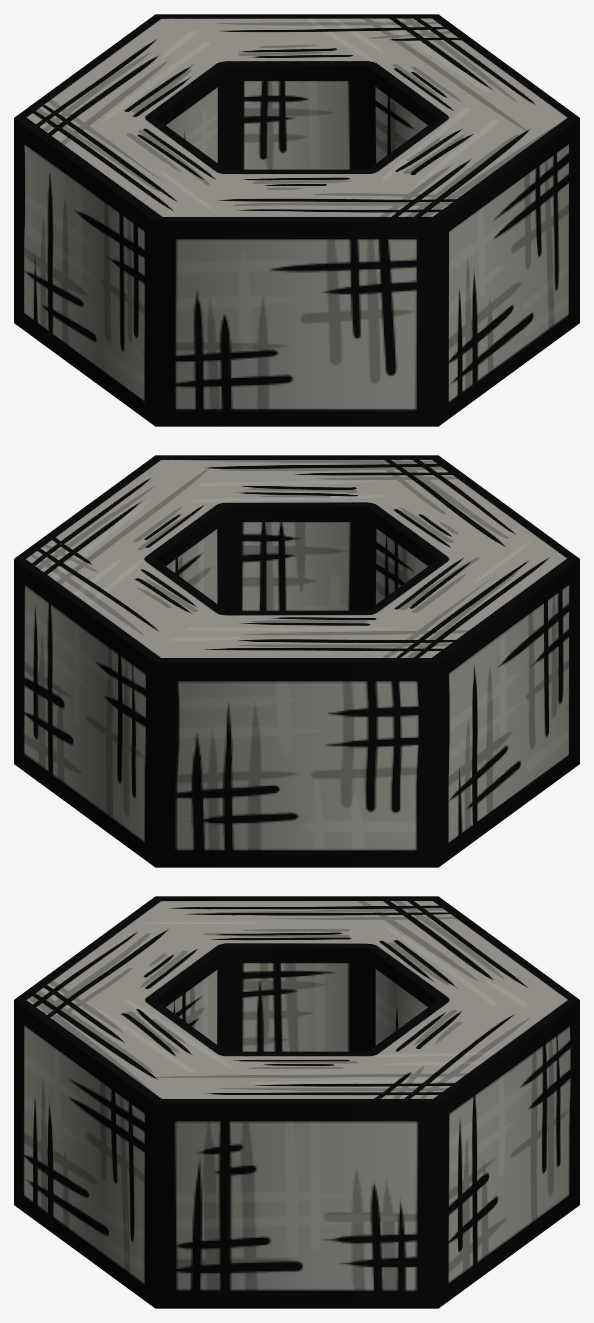
The model's file is Nut.FBX.
3 views of the same model, one above another, from view 1: azimuth 30°, elevation 25°; view 2: azimuth 150°, elevation 25°; view 3: azimuth 270°, elevation 25° (orthographic).
Visible parts, largest first — view 1: Nut; view 2: Nut; view 3: Nut.
Boxes of the visible parts, x1,y1,x2,y2 form: Nut: (14, 14, 579, 426); Nut: (14, 455, 579, 867); Nut: (14, 896, 579, 1308).
Bounding box in the file's own units: 34.1 × 15.75 × 39.37.
